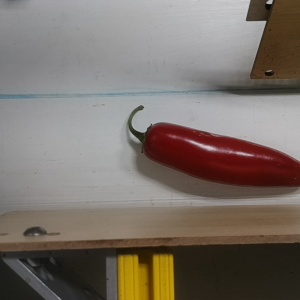Cut Point: (131, 120, 169, 159)
